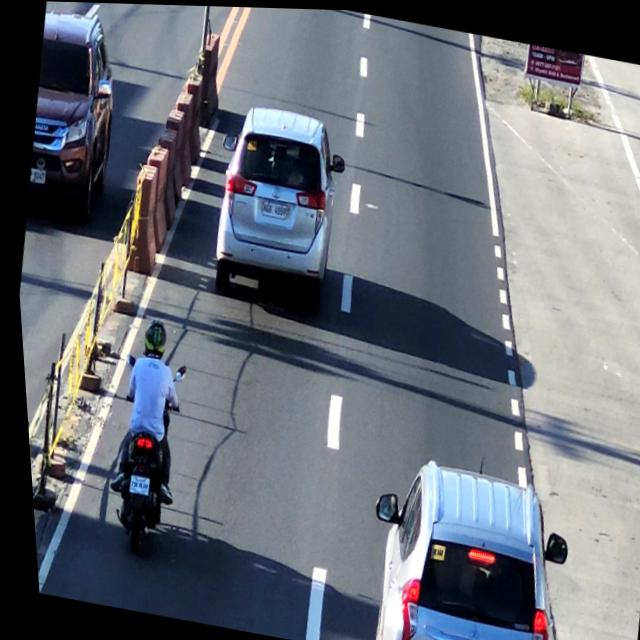Car: (354, 449, 575, 640), (201, 104, 348, 317)
License-Plate: (118, 469, 146, 497), (258, 197, 288, 221)
Motorcycle: (92, 318, 189, 550)
